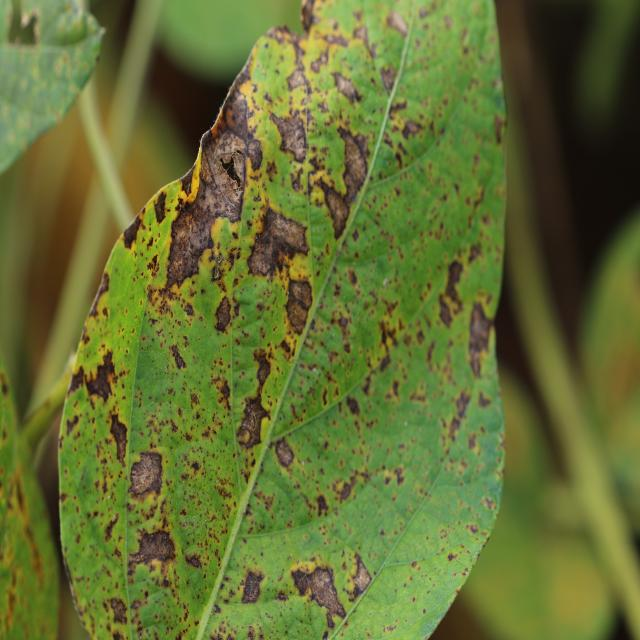Bacterial_Blight: (62, 342, 121, 462), (168, 185, 236, 284), (291, 562, 348, 626), (236, 360, 275, 453), (123, 437, 177, 503), (436, 253, 473, 334), (335, 123, 369, 197), (268, 108, 308, 163), (317, 181, 351, 242), (128, 527, 176, 570), (247, 224, 282, 279), (82, 350, 117, 404), (468, 301, 493, 363), (285, 286, 311, 336), (448, 389, 473, 435), (347, 556, 373, 598), (216, 152, 243, 191), (332, 71, 361, 105), (335, 471, 364, 503), (240, 567, 265, 604), (377, 316, 401, 354), (89, 269, 110, 311), (290, 565, 313, 597), (213, 296, 232, 332), (385, 10, 409, 38), (66, 363, 85, 398), (274, 437, 295, 468), (445, 258, 464, 292), (309, 48, 330, 75), (286, 67, 309, 91), (378, 64, 397, 92), (109, 597, 128, 625), (255, 354, 271, 387), (400, 118, 422, 141), (169, 344, 187, 369), (315, 493, 329, 517), (346, 395, 361, 416), (477, 389, 492, 409), (147, 253, 159, 275), (189, 460, 201, 473), (467, 522, 479, 534), (447, 551, 458, 562)
Soybean: (60, 0, 506, 640)
